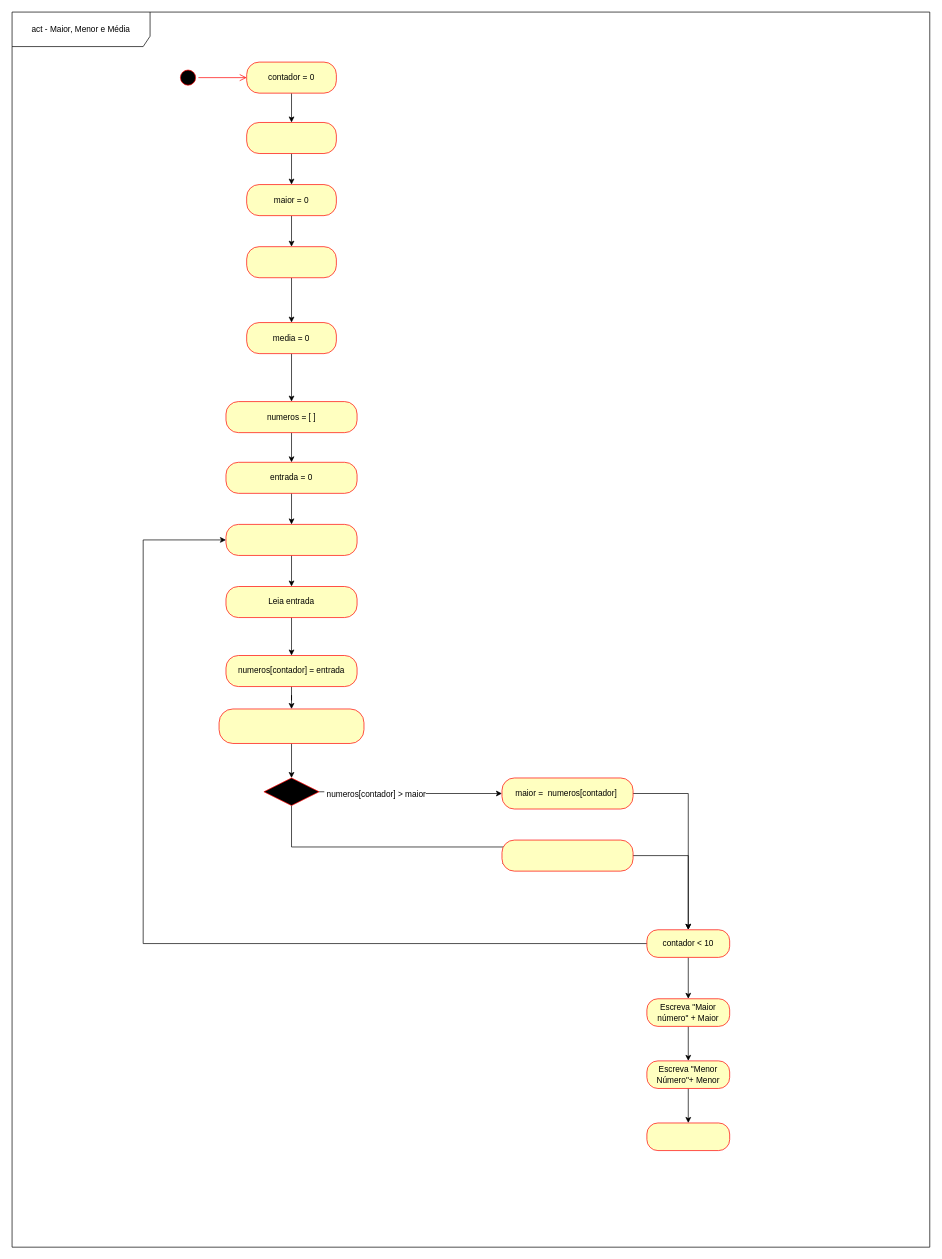
This 942x1259 diagram has some shape labels left out. Here are the shapes that lost their labels. From the top down, the centre of each, then its label:
(x=291, y=138): soma = 0
(x=291, y=262): menor = 0
(x=291, y=539): contador = contador + 1
(x=291, y=725): soma = soma + numeros[contador]
(x=567, y=855): menor = numeros[contador]
(x=688, y=1136): Escreva "A média é" + soma / contador
